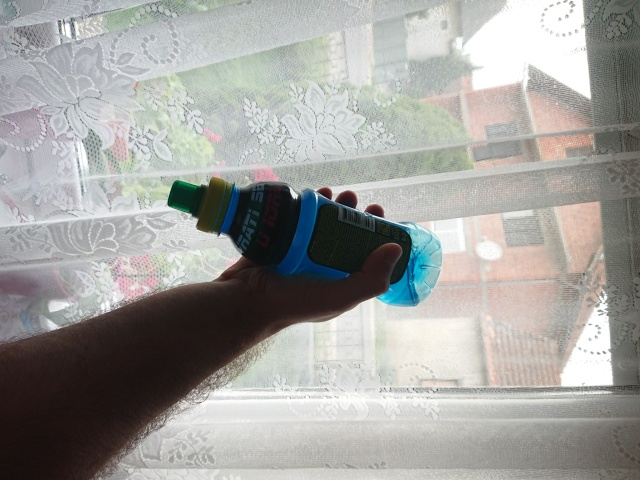Vindi Iso Sport Forest Strawberries 500mL: (166, 175, 443, 308)
